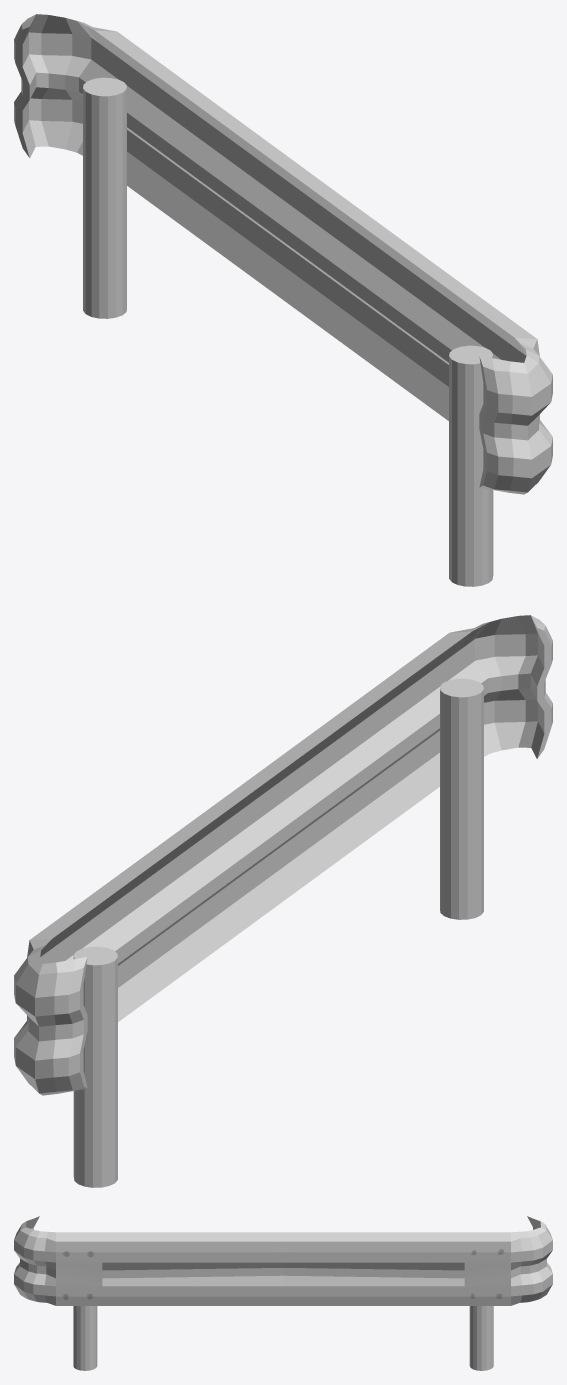
The model's file is guardrail.fbx.
3 renders of one model, top to bottom at view 1: azimuth 30°, elevation 25°; view 2: azimuth 150°, elevation 25°; view 3: azimuth 270°, elevation 25°, orthographic. The views are drawn at different scales.
Parts seen in each view (by area): view 1: guardrail; view 2: guardrail; view 3: guardrail.
Boxes of the visible parts, x1,y1,x2,y2 form: guardrail: (14, 14, 552, 586); guardrail: (14, 615, 552, 1187); guardrail: (14, 1216, 552, 1370).
Size of the model in its own units: 125 by 396 by 1370.
1 material, 1 textured.
